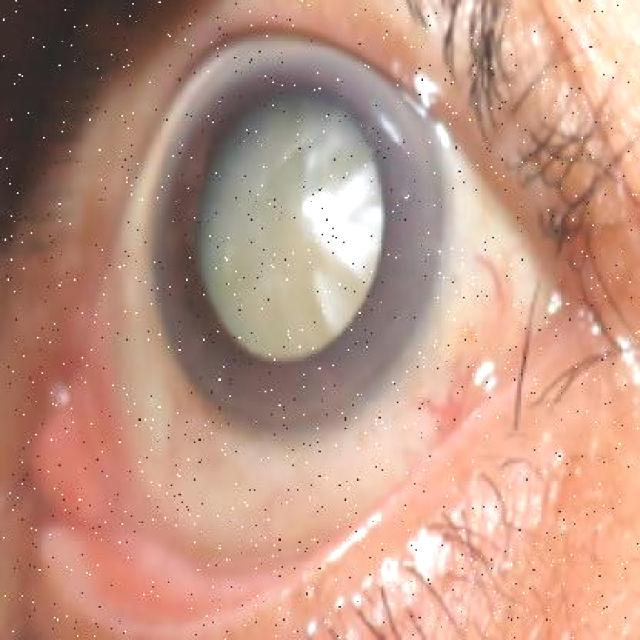Cataract: (121, 25, 467, 452)
